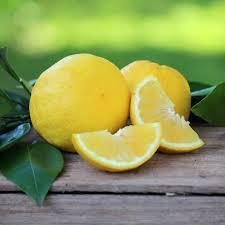lemon: (30, 52, 131, 152), (131, 75, 206, 153), (72, 121, 161, 172), (120, 60, 191, 121)
